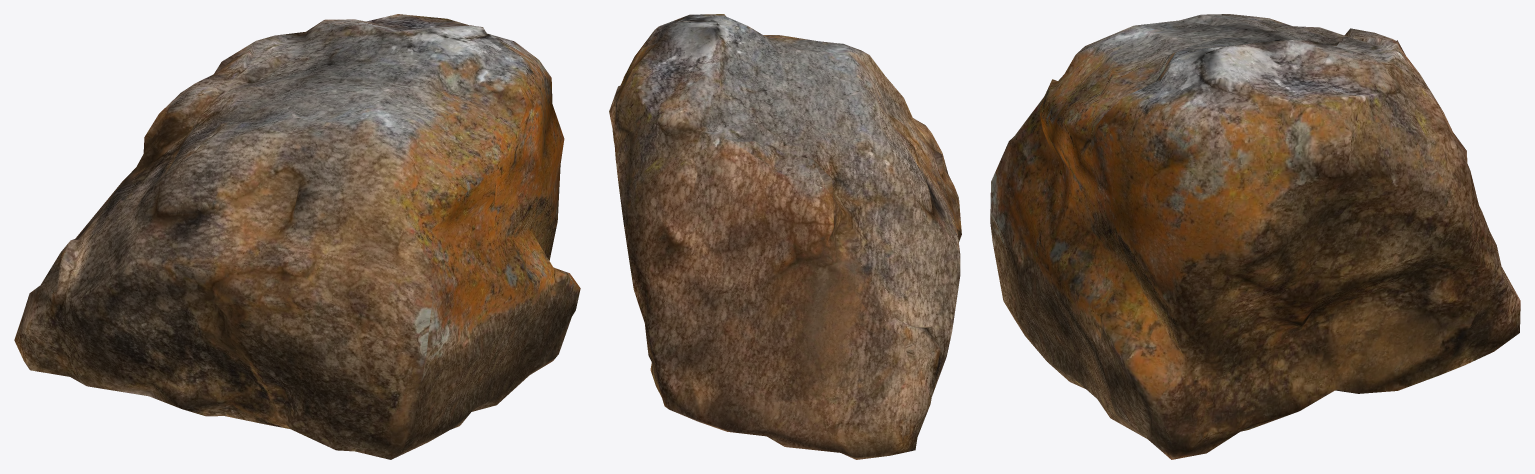
The picture shows the model from 3 angles, left to right: view 1: azimuth 30°, elevation 25°; view 2: azimuth 150°, elevation 25°; view 3: azimuth 270°, elevation 25°; orthographic projection. The views are drawn at different scales.
Visible parts, largest first — view 1: boulder_04; view 2: boulder_04; view 3: boulder_04.
Boxes of the visible parts, x1,y1,x2,y2 form: boulder_04: (14, 14, 580, 459); boulder_04: (609, 14, 961, 459); boulder_04: (990, 14, 1520, 459).
Bounding box in the file's own units: 2.51 × 1.88 × 2.47.
1 material, 1 textured.
